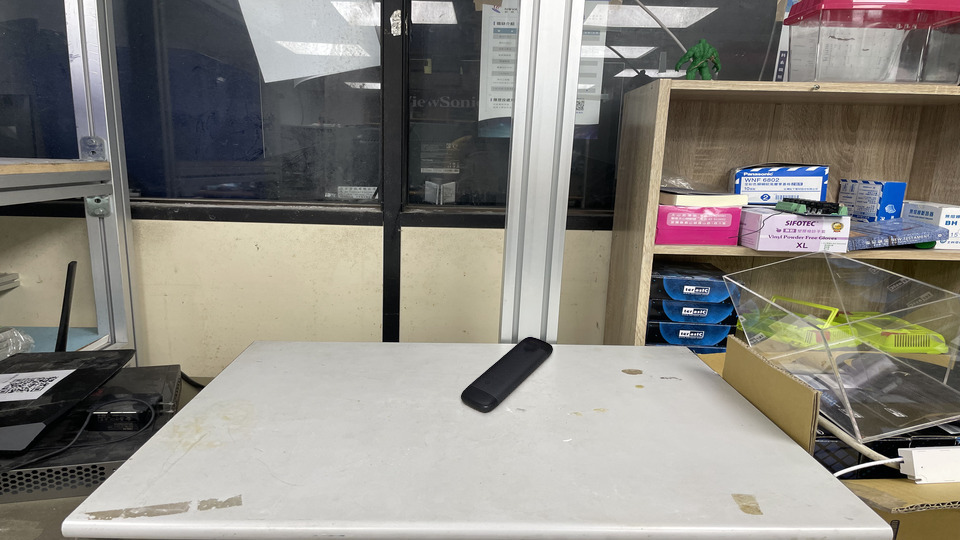blade: (465, 350, 525, 397)
round_grasp: (400, 391, 475, 451)
